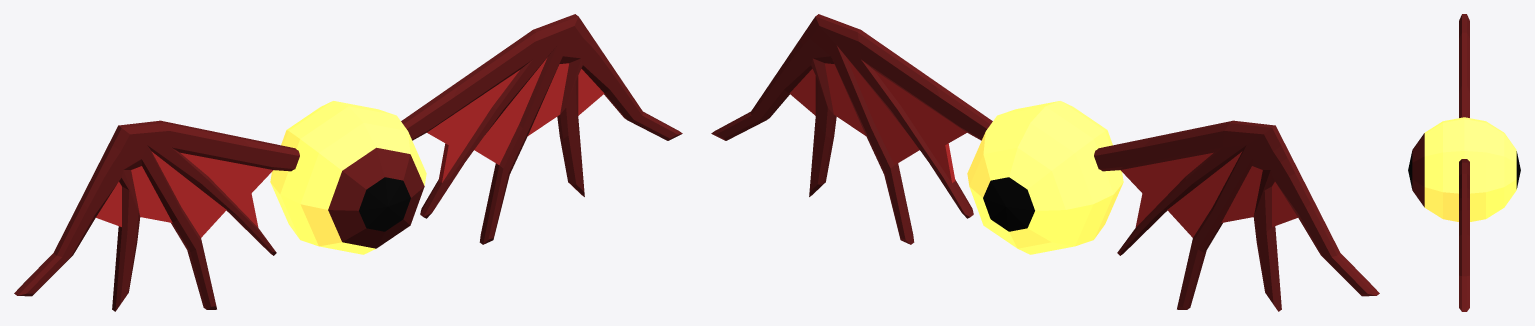
The model's file is HellPaddle.fbx.
The picture shows the model from 3 angles, left to right: view 1: azimuth 30°, elevation 25°; view 2: azimuth 150°, elevation 25°; view 3: azimuth 270°, elevation 25°; orthographic projection. The views are drawn at different scales.
Visible parts, largest first — view 1: Plane.001, Sphere.033; view 2: Plane.001, Sphere.033; view 3: Sphere.033, Plane.001.
Boxes of the visible parts, bbox=[...] form: Plane.001: bbox=[14, 14, 682, 311]; Sphere.033: bbox=[270, 101, 426, 254]; Plane.001: bbox=[711, 14, 1379, 311]; Sphere.033: bbox=[967, 101, 1123, 254]; Sphere.033: bbox=[1408, 117, 1520, 221]; Plane.001: bbox=[1459, 14, 1469, 311].
Bounding box in the file's own units: 303 × 89.13 × 62.1.
